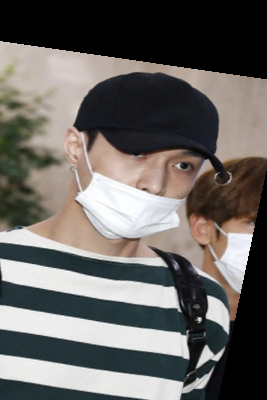mask_weared_incorrect: (51, 48, 253, 265)
